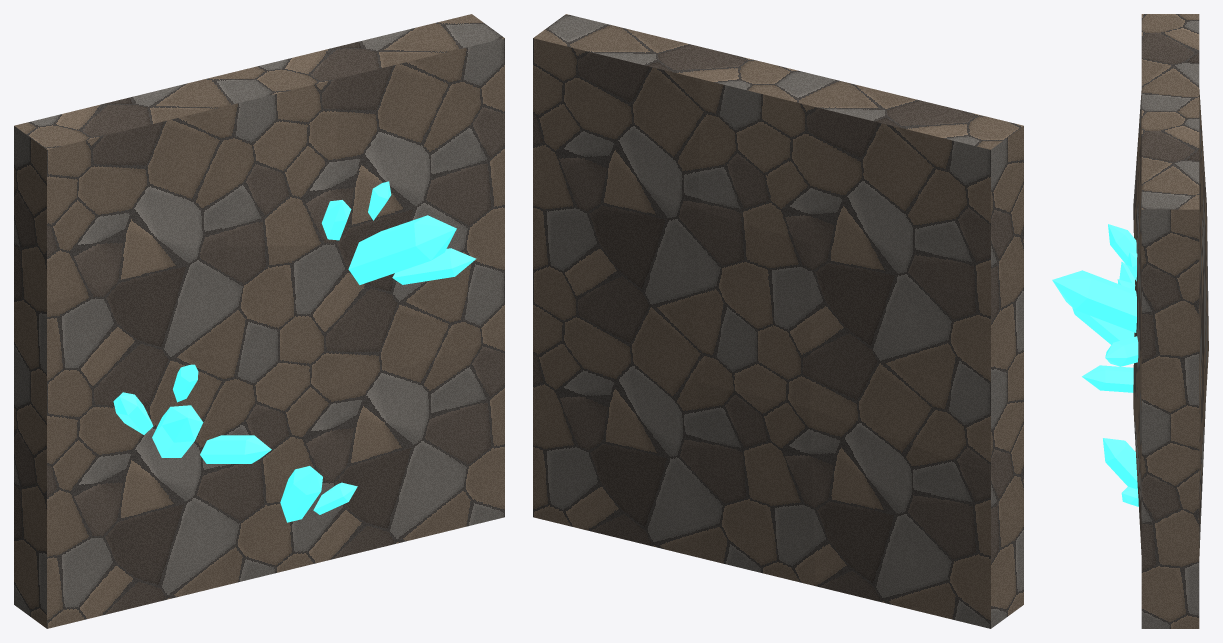
File: mine_wall_crystal.glb
3 views of the same model, side by side, from view 1: azimuth 30°, elevation 25°; view 2: azimuth 150°, elevation 25°; view 3: azimuth 270°, elevation 25° (orthographic). The views are drawn at different scales.
Parts seen in each view (by area): view 1: mine_wall_crystal; view 2: mine_wall_crystal; view 3: mine_wall_crystal.
Part boxes in pixels (left/top/right/bottom): mine_wall_crystal: left=14, top=14, right=504, bottom=628; mine_wall_crystal: left=533, top=14, right=1023, bottom=628; mine_wall_crystal: left=1052, top=14, right=1208, bottom=628.
Size of what is drawn, in the model's own units: 4 by 4 by 1.36.
2 materials, 1 textured.
